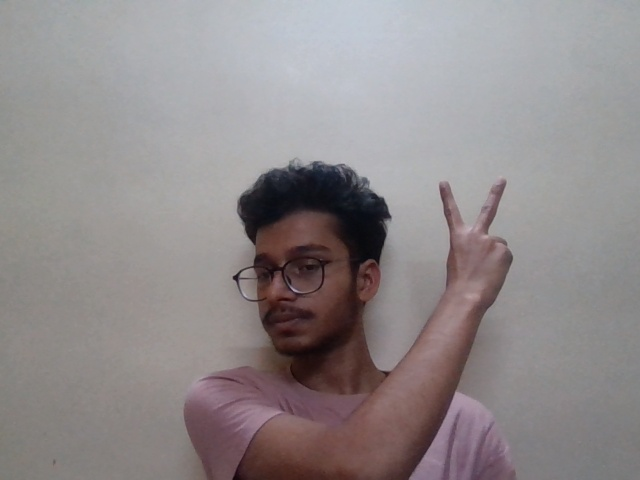V: (419, 175, 527, 320)
